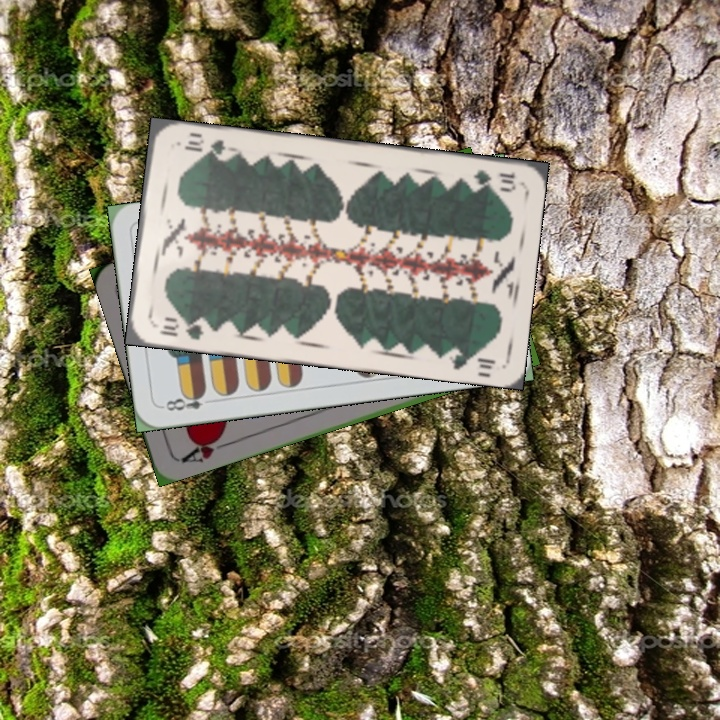E8: (158, 388, 208, 414)
G10: (155, 313, 212, 343), (469, 165, 519, 193)
HA: (176, 429, 234, 466)
